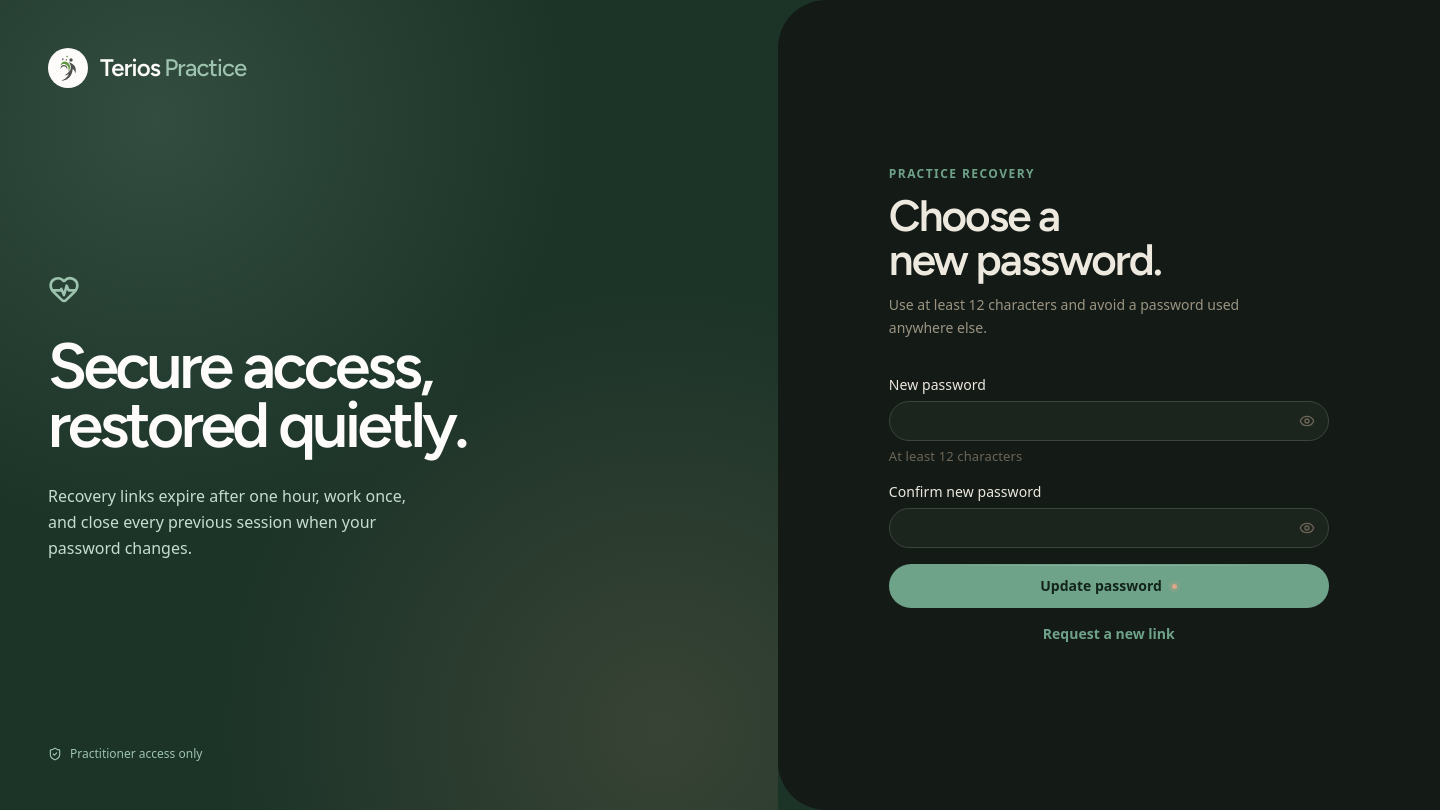
Test case: practitioner password reset › sends the token from the link with the new password
This screenshot has width=1440, height=810.
Type "a sufficiently long password" into the password field labelled "New password" at {"x": 1109, "y": 421}, box [889, 401, 1329, 441]
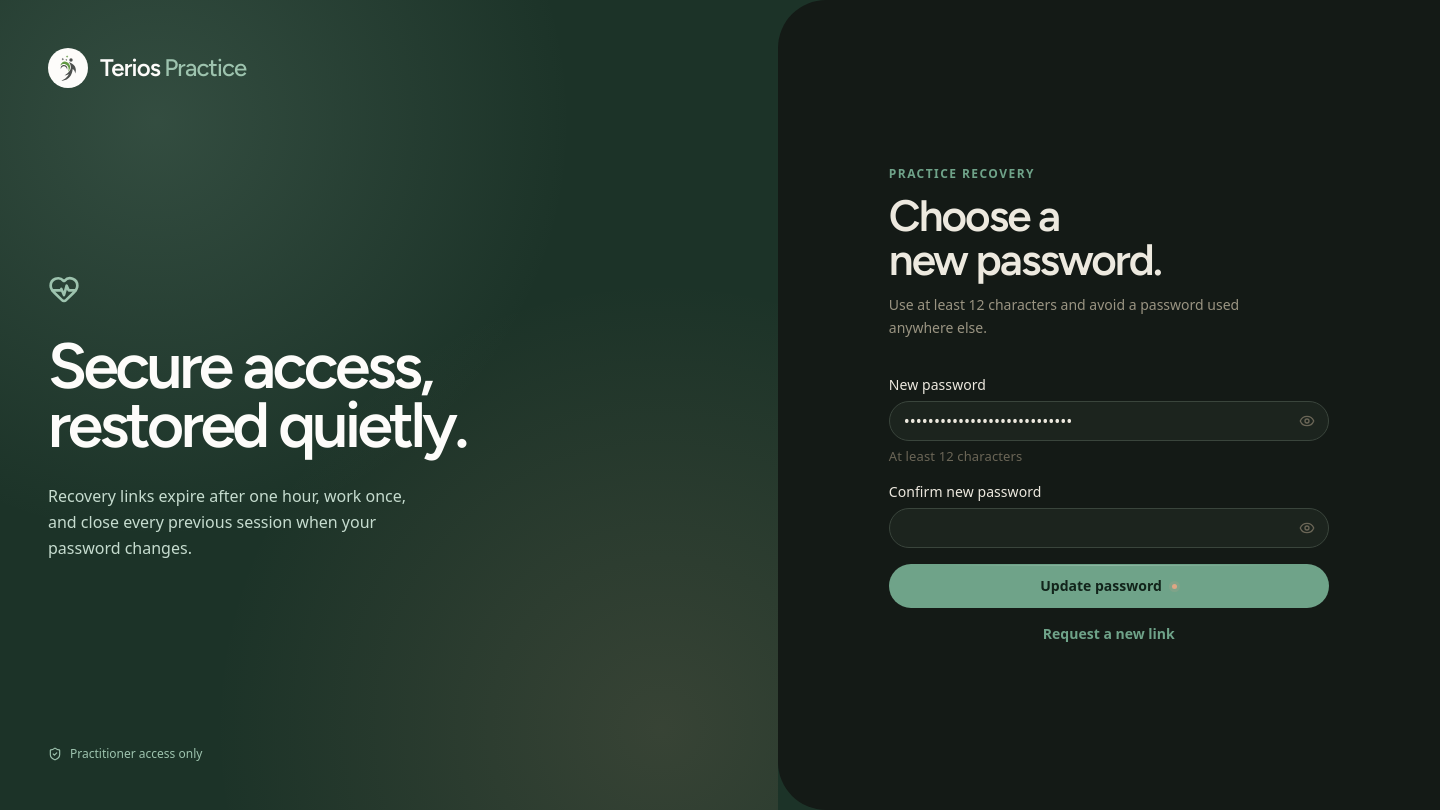
Type "a sufficiently long password" into the password field labelled "Confirm new password" at {"x": 1109, "y": 528}, box [889, 508, 1329, 548]
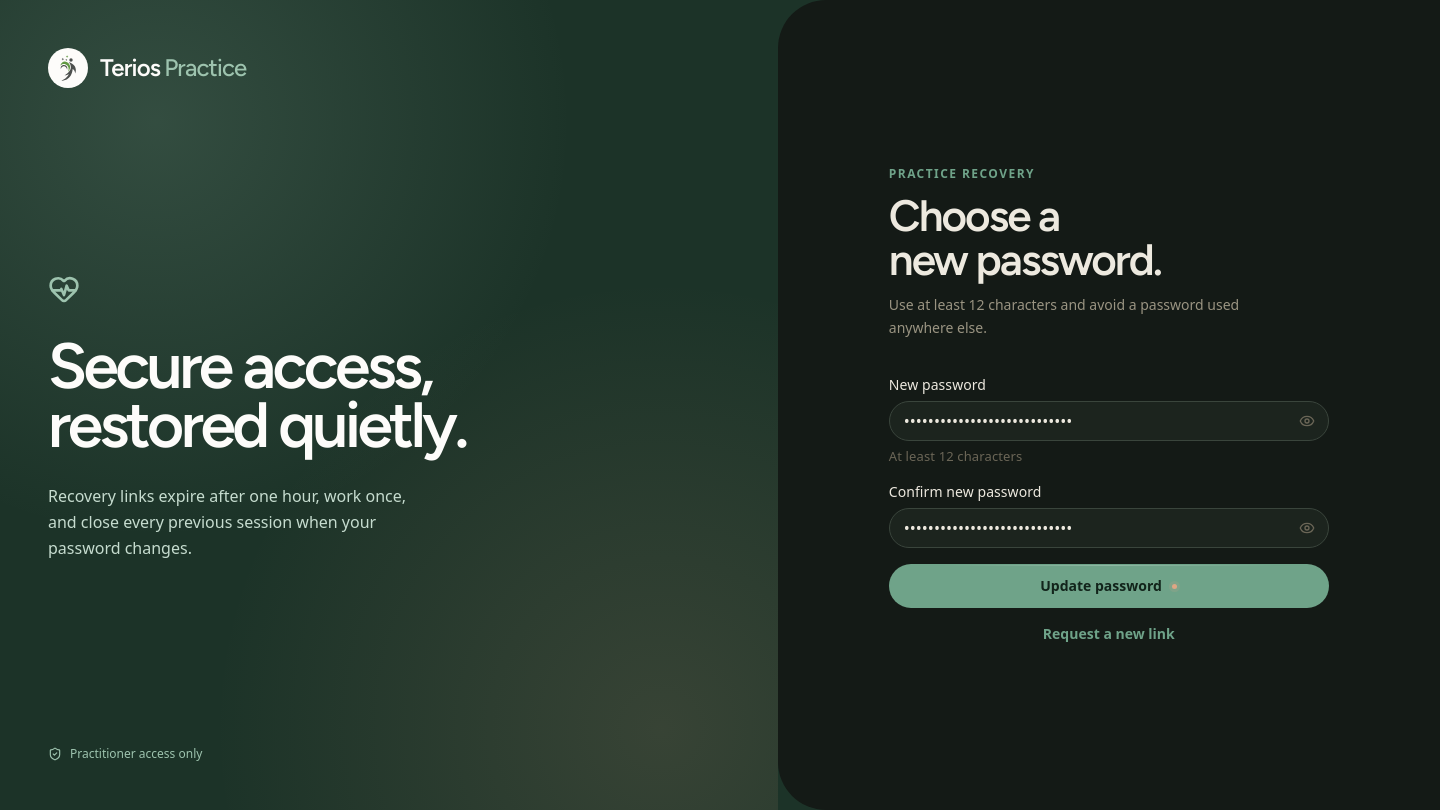
Click the button "Update password" at {"x": 1109, "y": 586}, box [889, 564, 1329, 608]
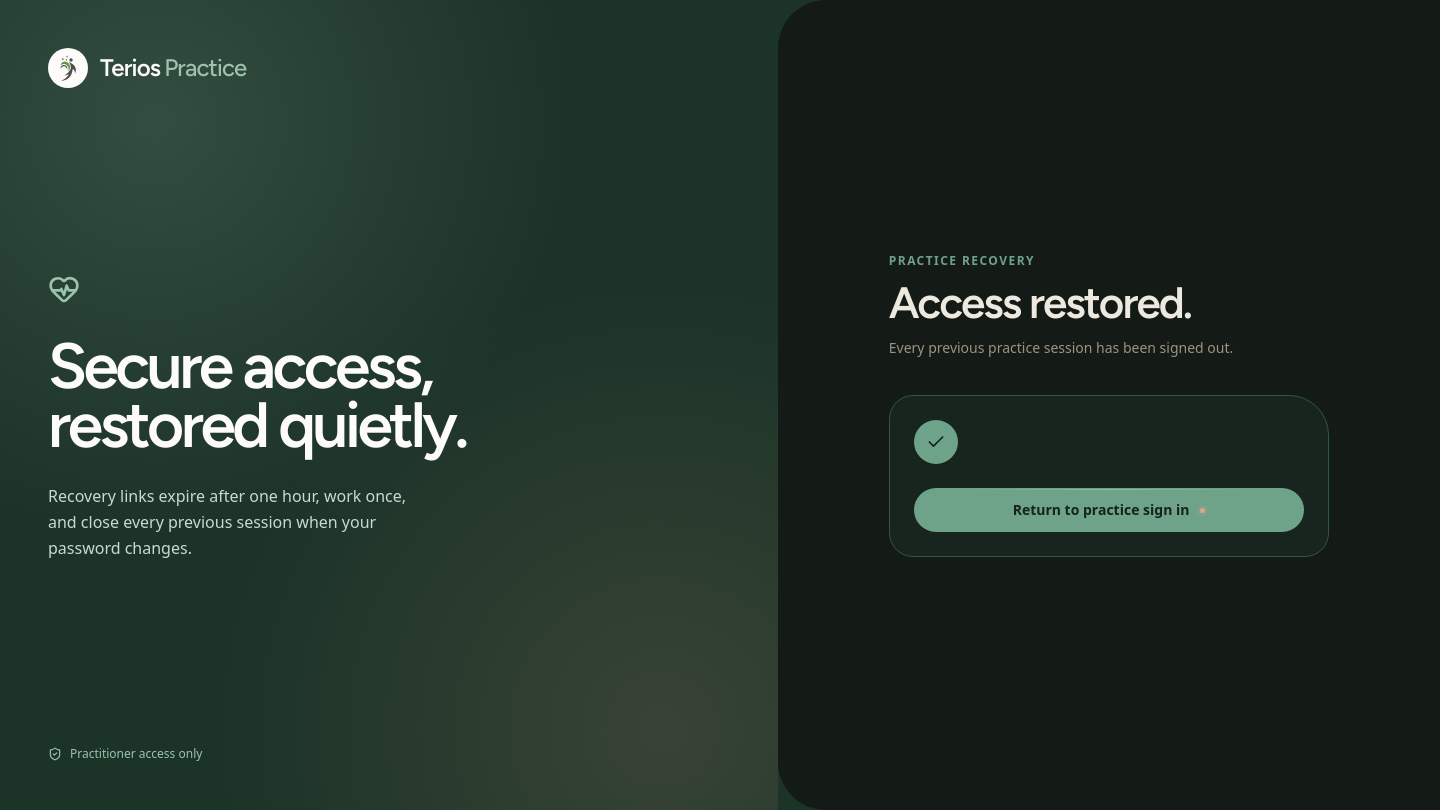
Expected: the heading "Access restored." is shown, [889, 276, 1191, 329]
Expected: the text "Every previous practice session has been signed out." is shown, [889, 338, 1233, 357]
